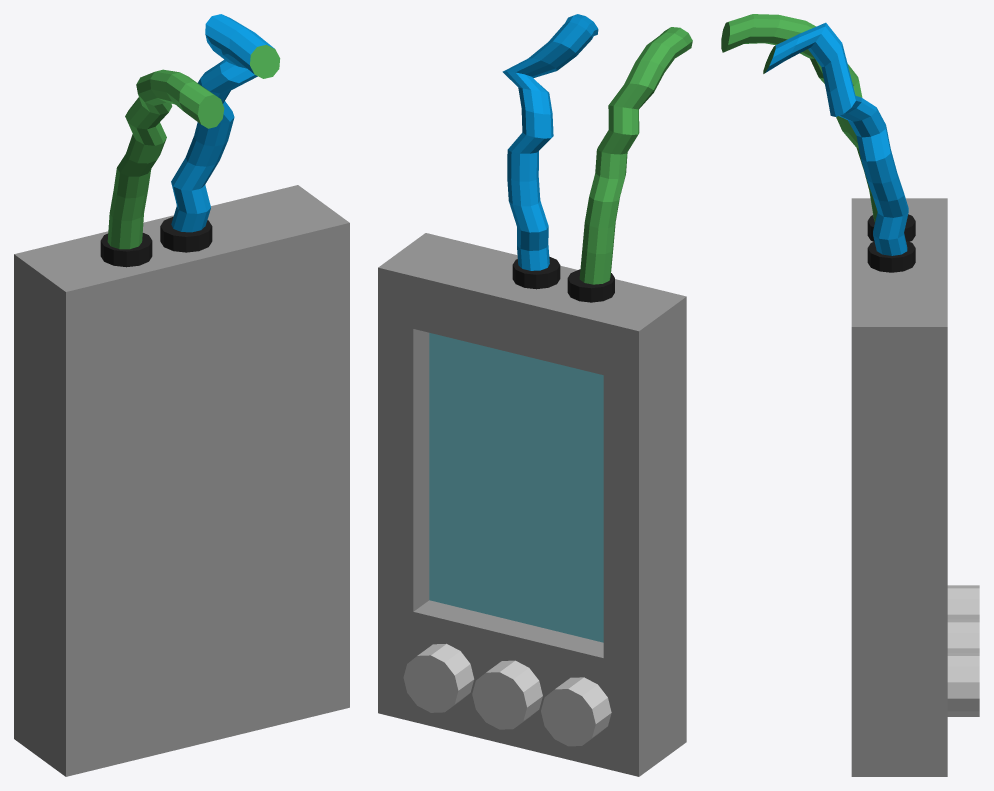
Rendered from _odel 1.fbx.
3 renders of one model, left to right at view 1: azimuth 30°, elevation 25°; view 2: azimuth 150°, elevation 25°; view 3: azimuth 270°, elevation 25°, orthographic. The views are drawn at different scales.
Parts seen in each view (by area): view 1: group_1892193414; view 2: group_1892193414, group_1277280098, group_2027047789, group_593164581; view 3: group_1892193414, group_593164581, group_1277280098, group_2027047789.
Part boxes in pixels (x1,y1,x2,y2): group_1892193414: (14, 14, 349, 776); group_1892193414: (378, 14, 692, 776); group_1277280098: (541, 677, 611, 746); group_2027047789: (472, 660, 542, 729); group_593164581: (403, 643, 474, 712); group_1892193414: (721, 14, 947, 776); group_593164581: (947, 653, 979, 716); group_1277280098: (947, 585, 979, 619); group_2027047789: (947, 619, 979, 652).
Size of the model in its own units: 19 by 47.24 by 16.14.
